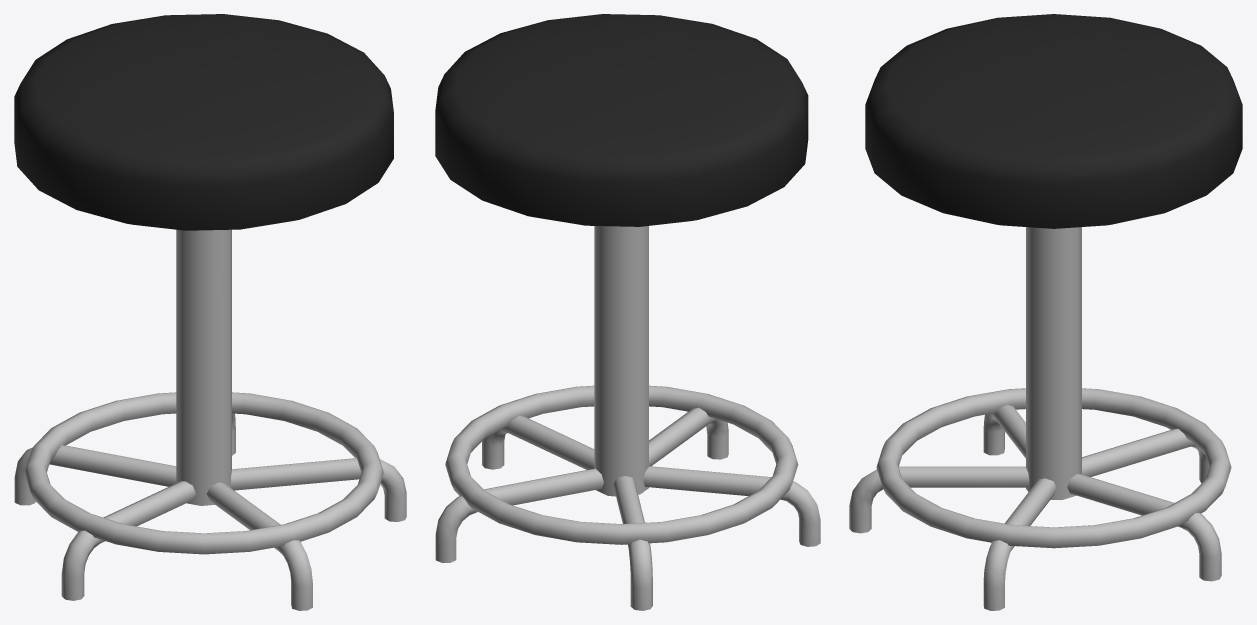
Rendered from chair.fbx.
3 views of the same model, side by side, from view 1: azimuth 30°, elevation 25°; view 2: azimuth 150°, elevation 25°; view 3: azimuth 270°, elevation 25° (orthographic).
Visible parts, largest first — view 1: chair; view 2: chair; view 3: chair.
Boxes of the visible parts, box(x1,y1,x2,y2) form: chair: box(14, 14, 406, 610); chair: box(435, 14, 820, 610); chair: box(849, 14, 1242, 610).
Size of what is drawn, in the model's own units: 35.07 by 45.37 by 35.44.
